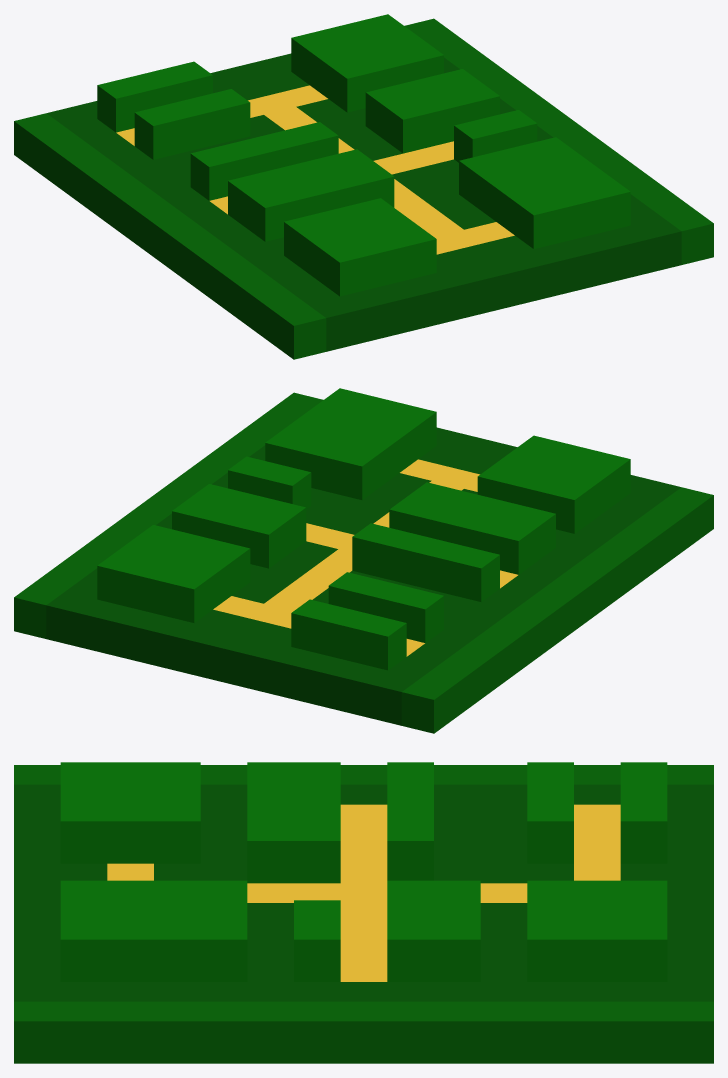
The model's file is open-circuit-2.gltf.
3 views of the same model, one above another, from view 1: azimuth 30°, elevation 25°; view 2: azimuth 150°, elevation 25°; view 3: azimuth 270°, elevation 25° (orthographic). The views are drawn at different scales.
Parts seen in each view (by area): view 1: Node; view 2: Node; view 3: Node.
Part boxes in pixels (bbox=[...]): Node: bbox=[14, 14, 713, 359]; Node: bbox=[14, 388, 713, 733]; Node: bbox=[14, 762, 713, 1063].
Size of the model in its own units: 1.3 by 0.2 by 1.5.
1 material, 1 textured.
